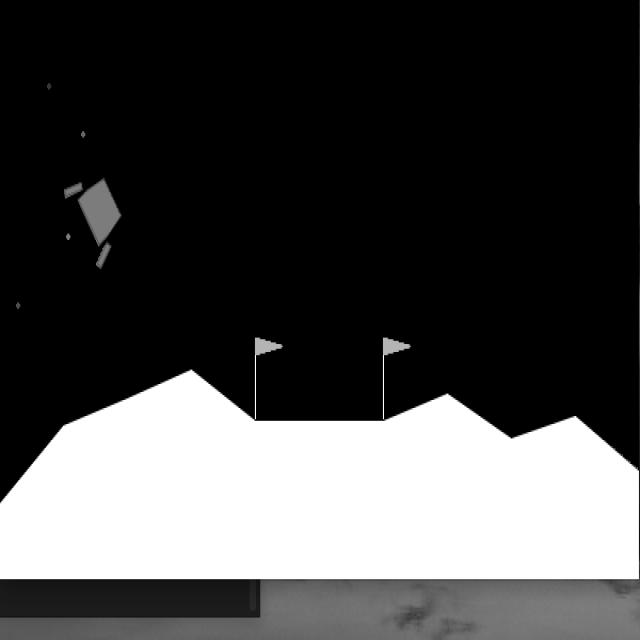lander: (59, 172, 141, 273)
landing_point: (253, 332, 388, 423)
